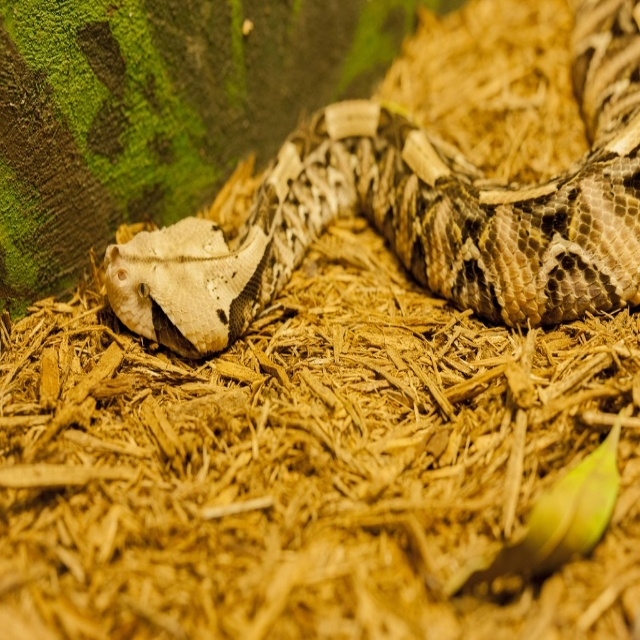Snake: (104, 6, 640, 363)
